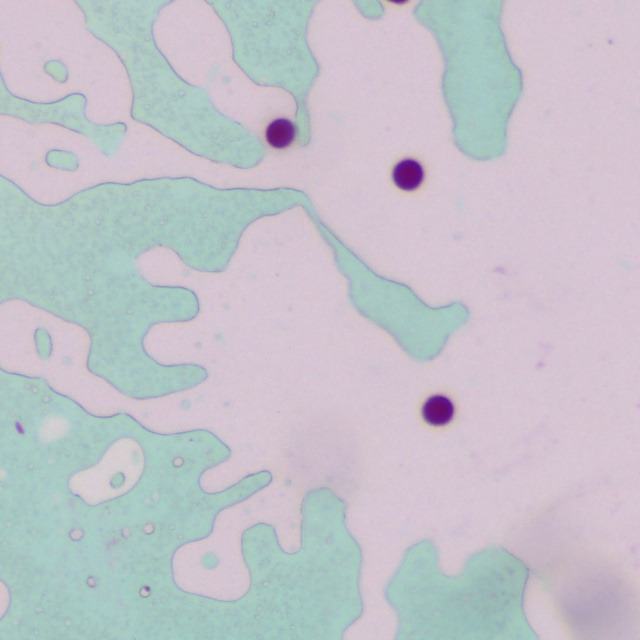viable: (393, 160, 423, 190), (423, 396, 453, 425), (267, 119, 295, 147)
